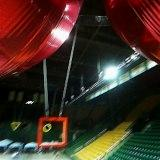Orange_Square_GShape: (38, 116, 67, 148)
Yellow_Circle_GShape: (43, 122, 51, 132)
Yellow_Triangle_Gshape: (11, 121, 21, 131)
